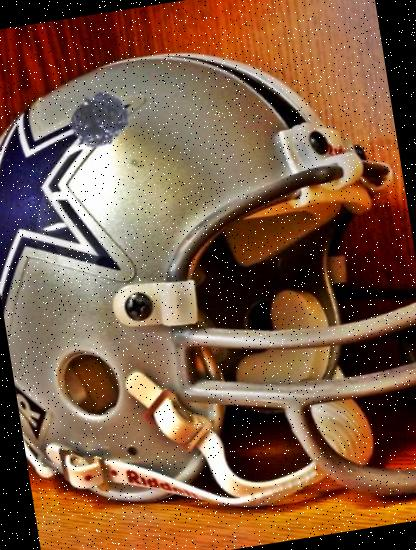Mulberry: (62, 87, 146, 171)
